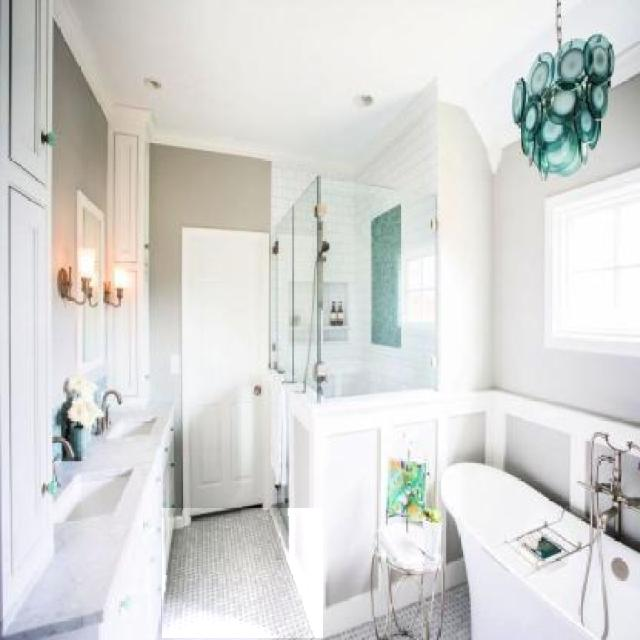floor: (162, 508, 323, 638)
